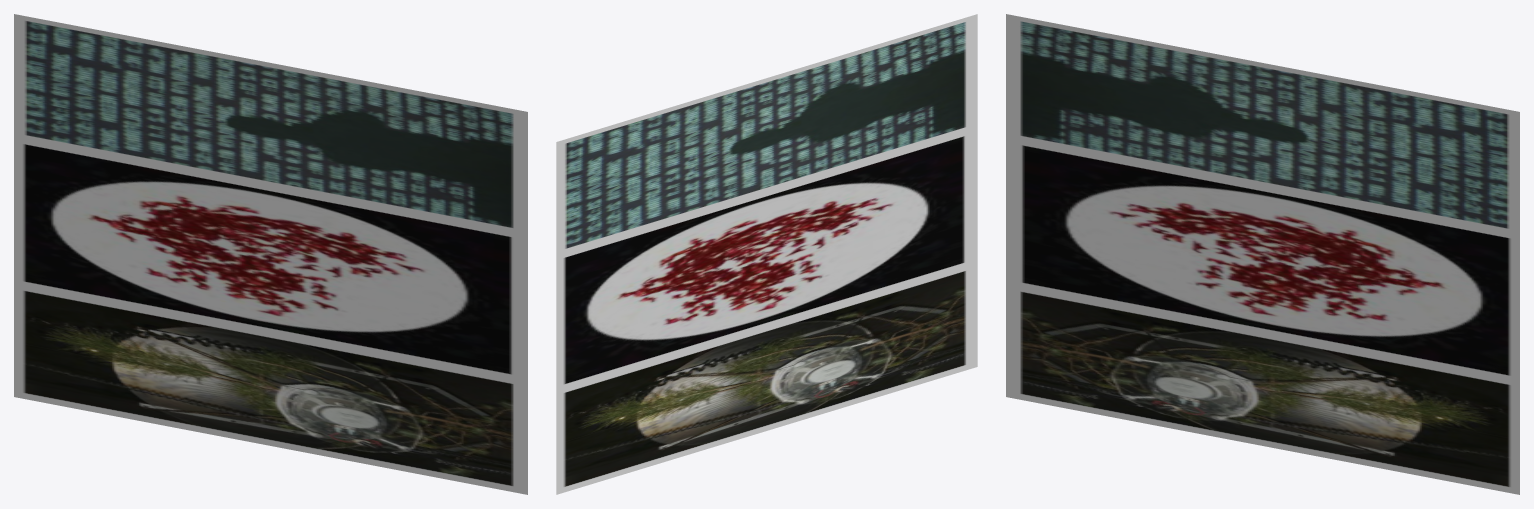
3 views of the same model, side by side, from view 1: azimuth 90°, elevation 25°; view 2: azimuth 150°, elevation 25°; view 3: azimuth 270°, elevation 25° (orthographic). The views are drawn at different scales.
Visible parts, largest first — view 1: Plane.015; view 2: Plane.015; view 3: Plane.015.
Boxes of the visible parts, left/top/right/bottom form: Plane.015: left=14, top=14, right=527, bottom=494; Plane.015: left=556, top=14, right=977, bottom=494; Plane.015: left=1006, top=14, right=1519, bottom=494.
Size of the model in its own units: 1.64 by 3 by 3.65.
Materials: 1 (1 with a texture image).
